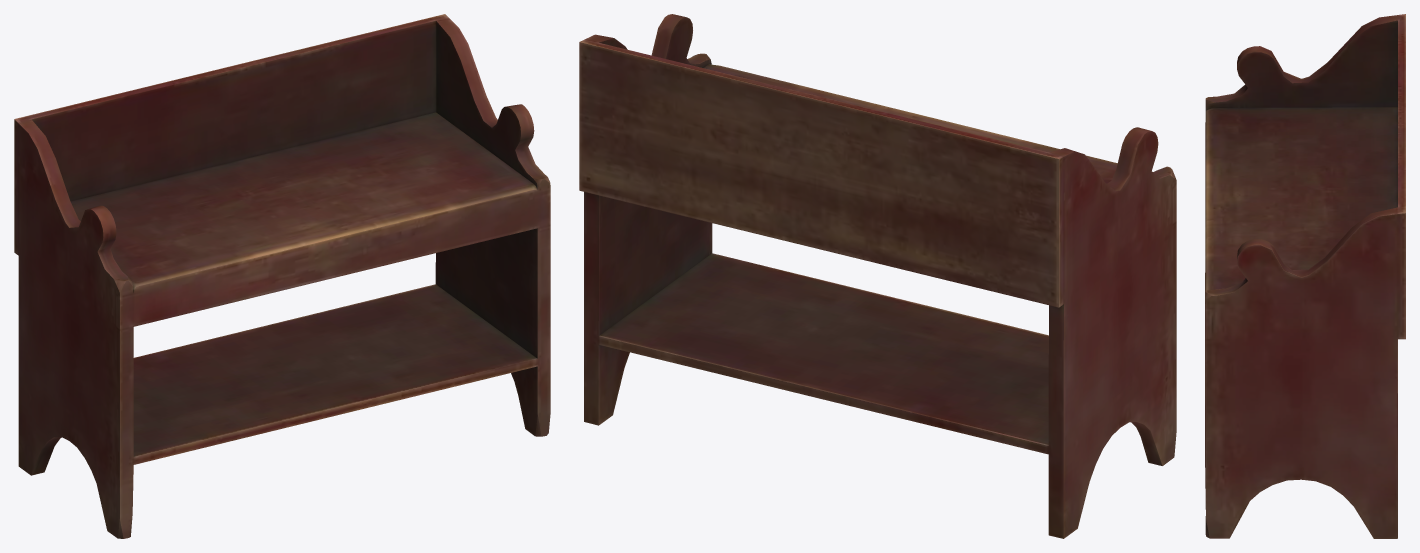
File: painted_wooden_bench.glb
3 views of the same model, side by side, from view 1: azimuth 30°, elevation 25°; view 2: azimuth 150°, elevation 25°; view 3: azimuth 270°, elevation 25° (orthographic). The views are drawn at different scales.
Parts seen in each view (by area): view 1: painted_wooden_bench; view 2: painted_wooden_bench; view 3: painted_wooden_bench.
Part boxes in pixels (x1,y1,x2,y2): painted_wooden_bench: [14, 14, 550, 538]; painted_wooden_bench: [579, 14, 1176, 538]; painted_wooden_bench: [1205, 14, 1405, 538].
Size of the model in its own units: 1.16 by 0.8893 by 0.4965.
Materials: 1 (1 with a texture image).
